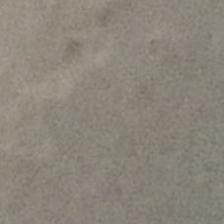Non_Crack: (23, 31, 210, 189)
